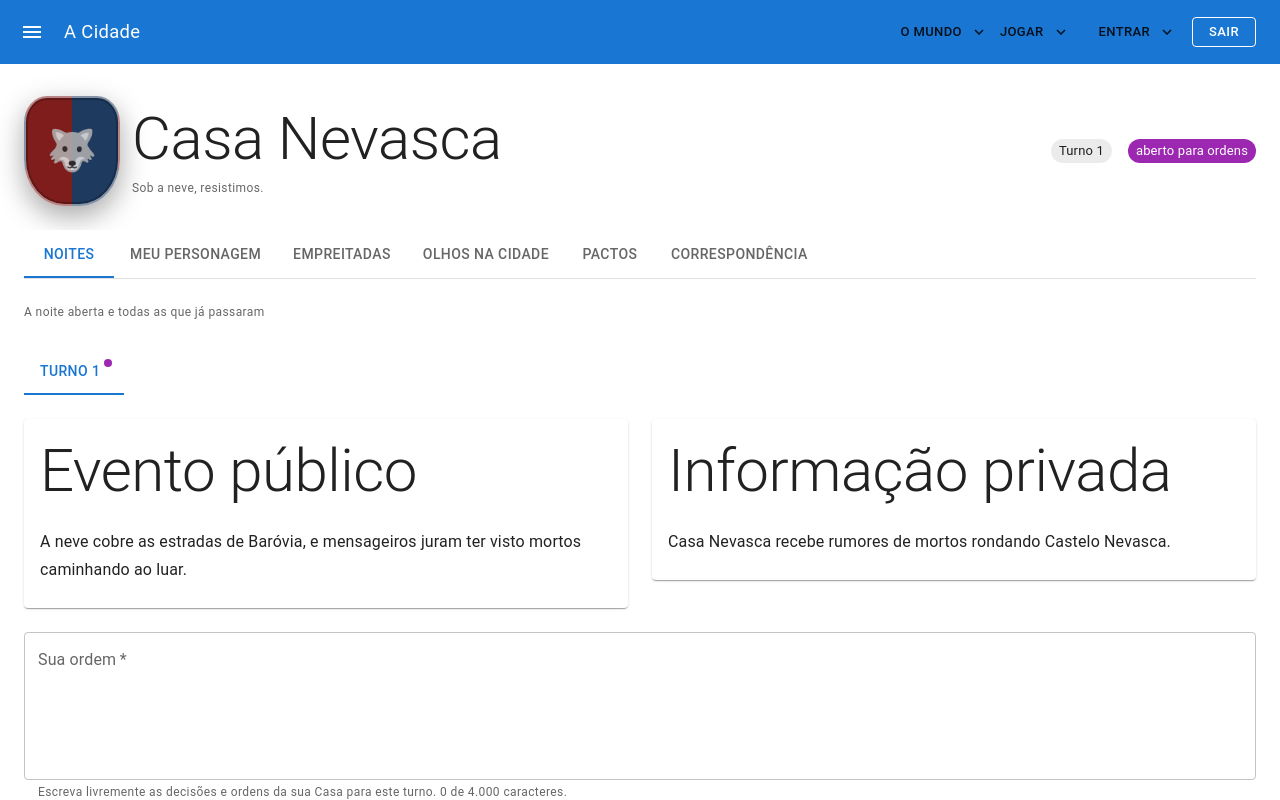
it: GamePage › desconta da Energia livre o que a Casa já distribuiu
What coordinates should you click on to do the following:
click the tab "Meu personagem"
I would click on:
 (196, 254)
Its box is [114,230,277,278].
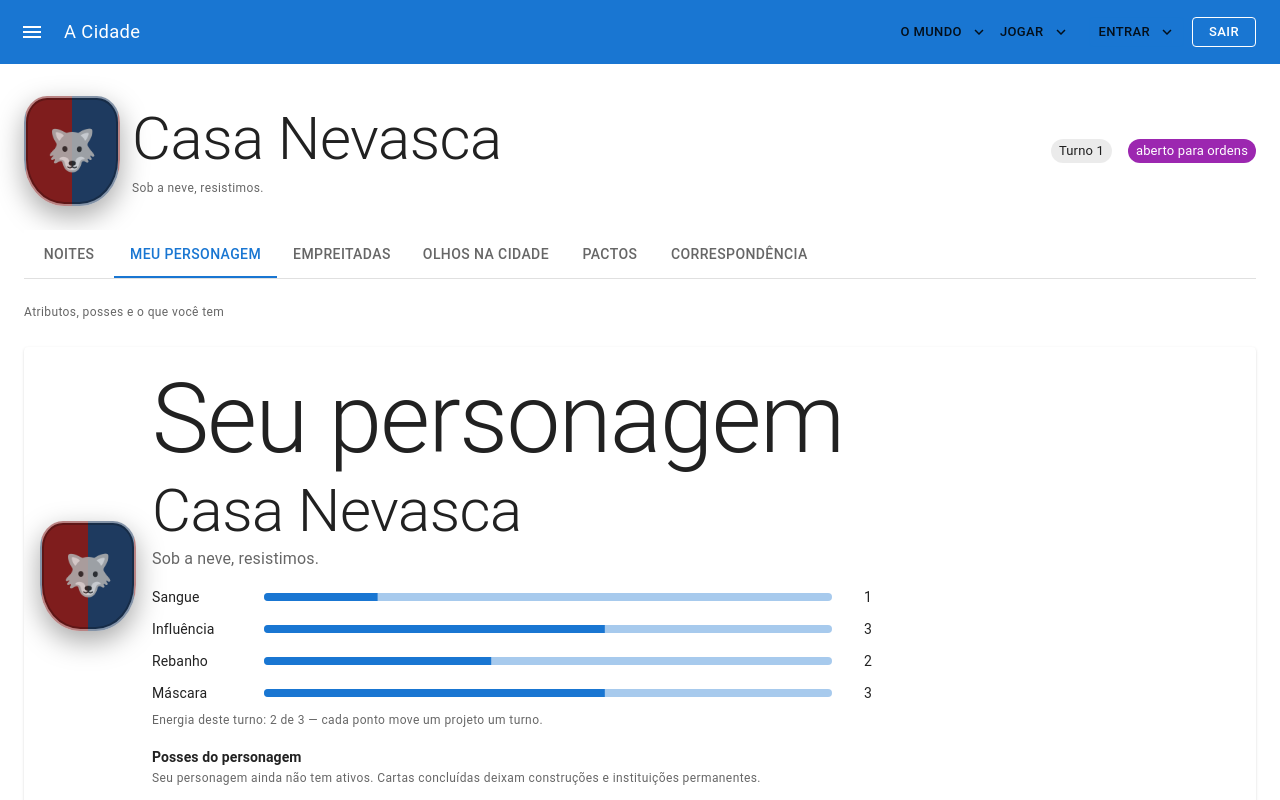
Expected: the text "Energia deste turno: 2 de 3" is shown, [152,713,543,727]
